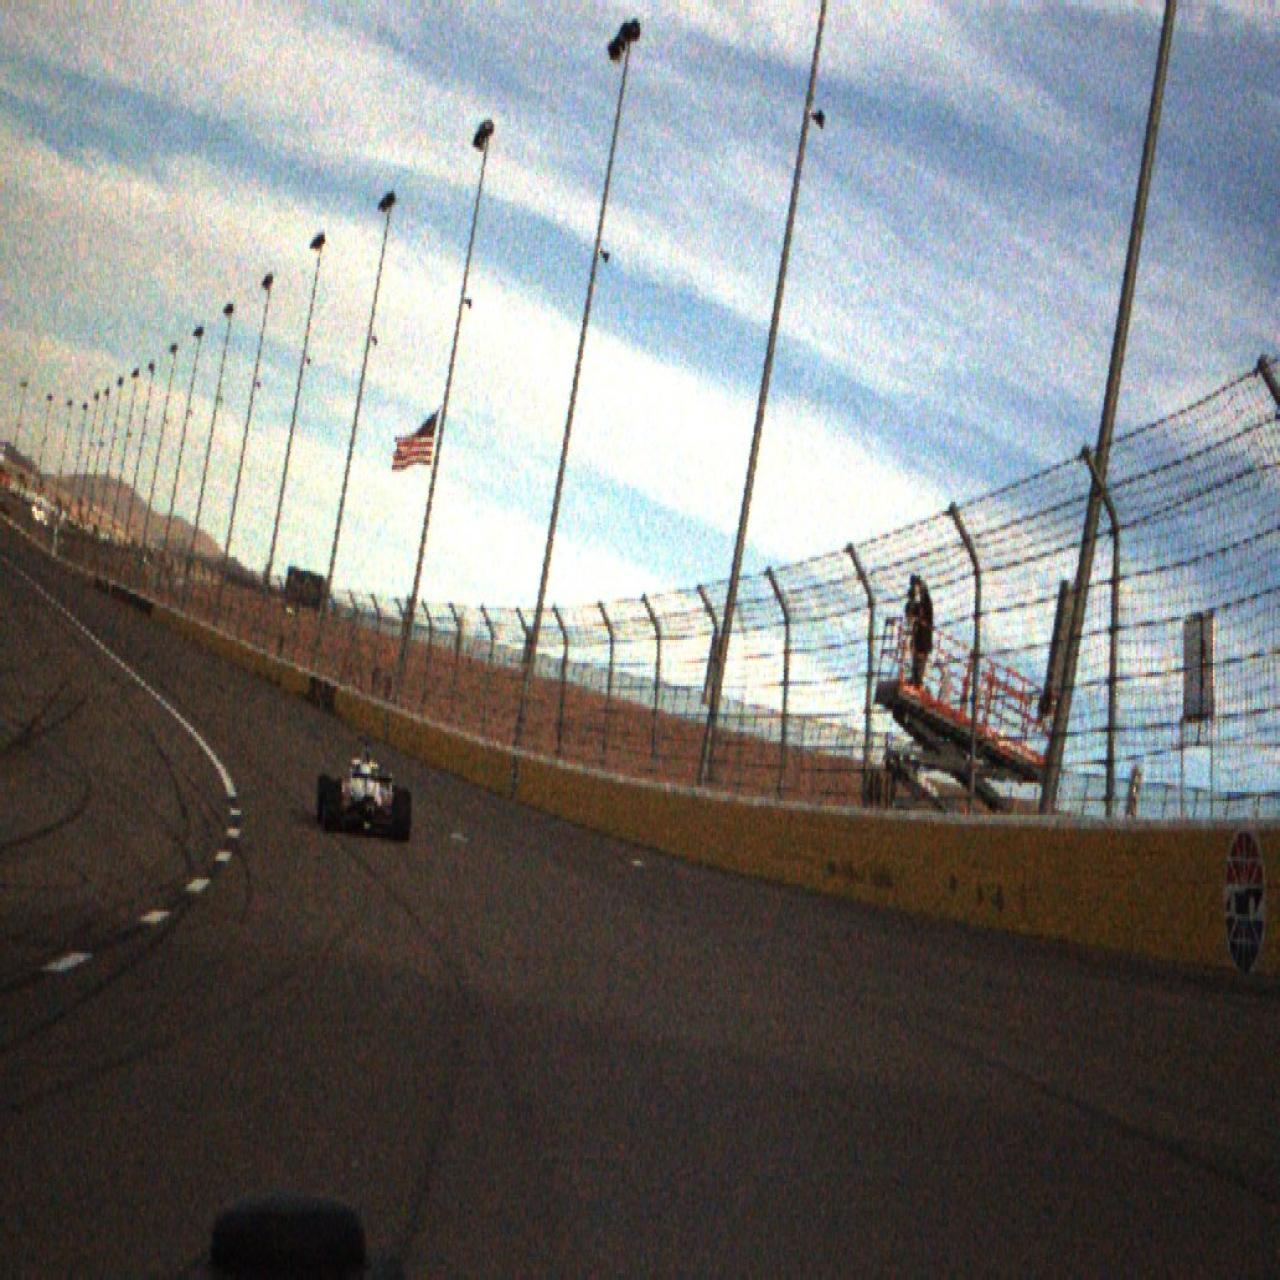AV: (316, 735, 411, 843)
Wheel: (393, 790, 413, 843), (324, 781, 342, 835), (316, 775, 329, 828)
